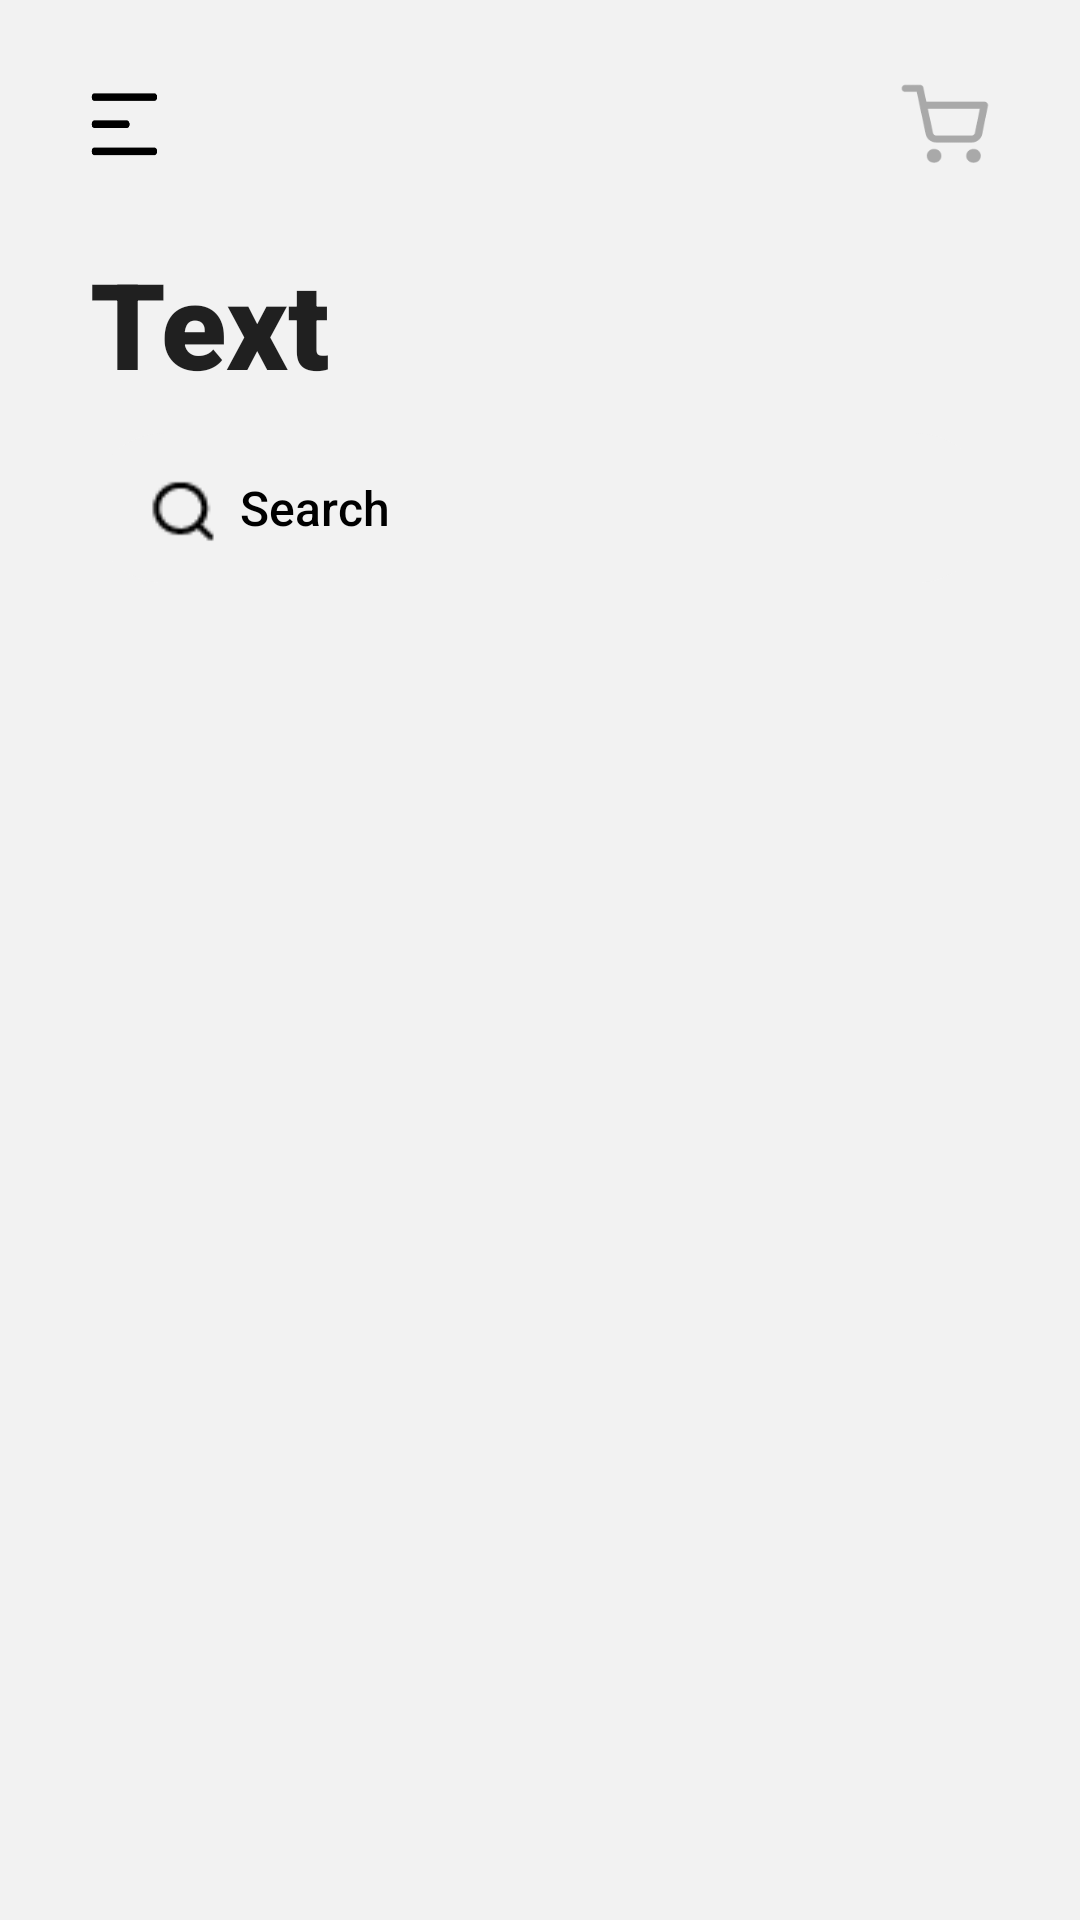

Point at icon controls on the screen. Image size 1080 × 1920, points as [x,y].
menu: [124,124]
shoping: [945,124]
